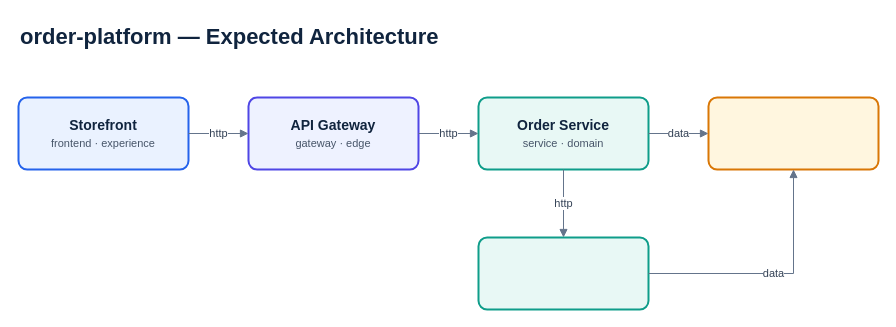
This 896x327 diagram has some shape labels left out. The shapes that lost their labels are listed below. From the top down, each one's centre as x and y in pixels, then its label:
the point at 793,133: PostgreSQL database · data
the point at 563,273: Payment Service service · domain
